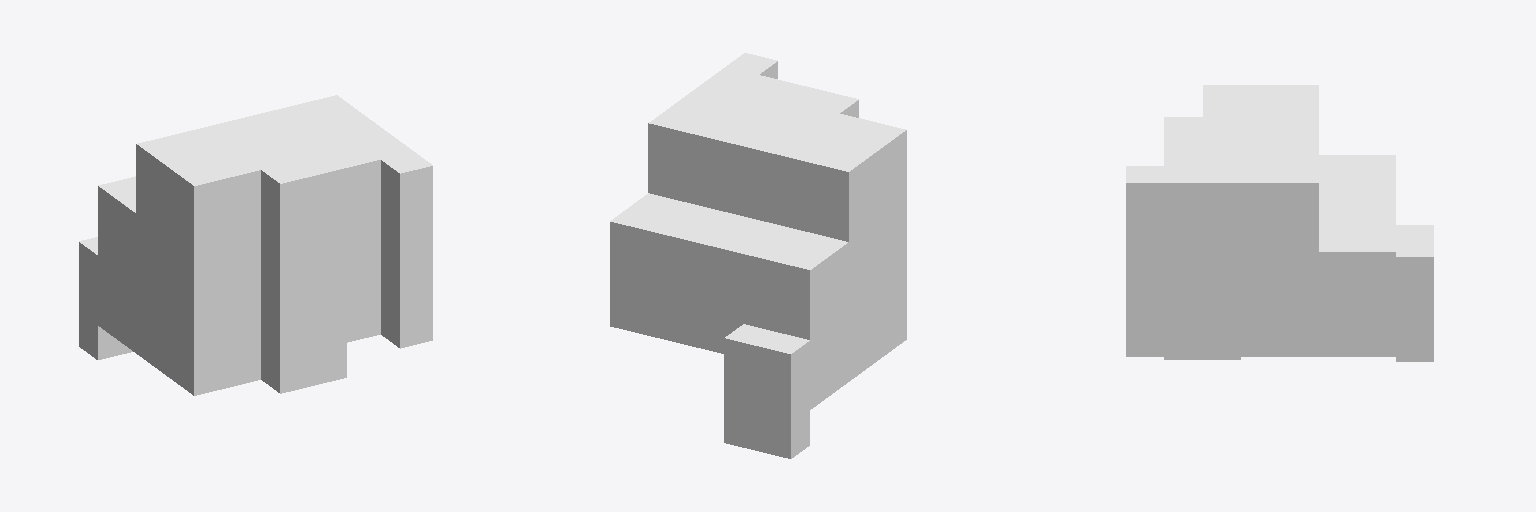
File: Koala_L.obj
The picture shows the model from 3 angles: view 1: azimuth 30°, elevation 25°; view 2: azimuth 150°, elevation 25°; view 3: azimuth 270°, elevation 25°; orthographic projection.
Visible parts, largest first — view 1: object 1; view 2: object 1; view 3: object 1.
Part boxes in pixels (bbox=[...]): object 1: bbox=[79, 95, 432, 395]; object 1: bbox=[610, 53, 906, 458]; object 1: bbox=[1126, 85, 1433, 361].
Size of the model in its own units: 0.6 by 0.7 by 0.8.